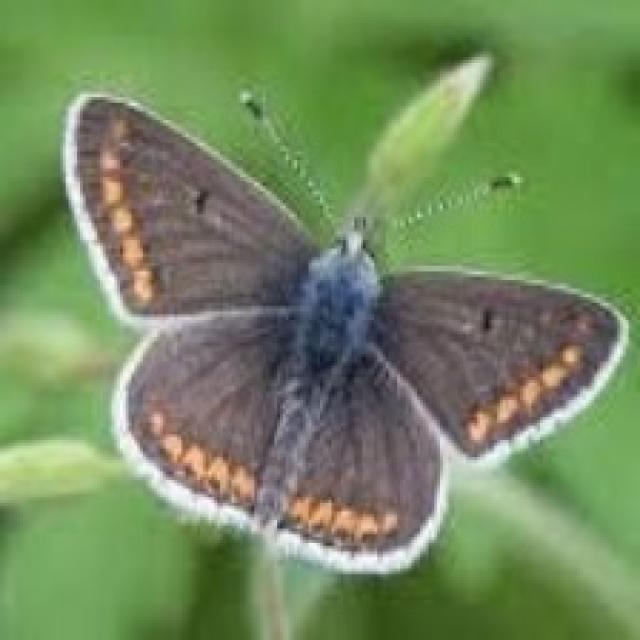butterfly: (57, 49, 629, 577)
